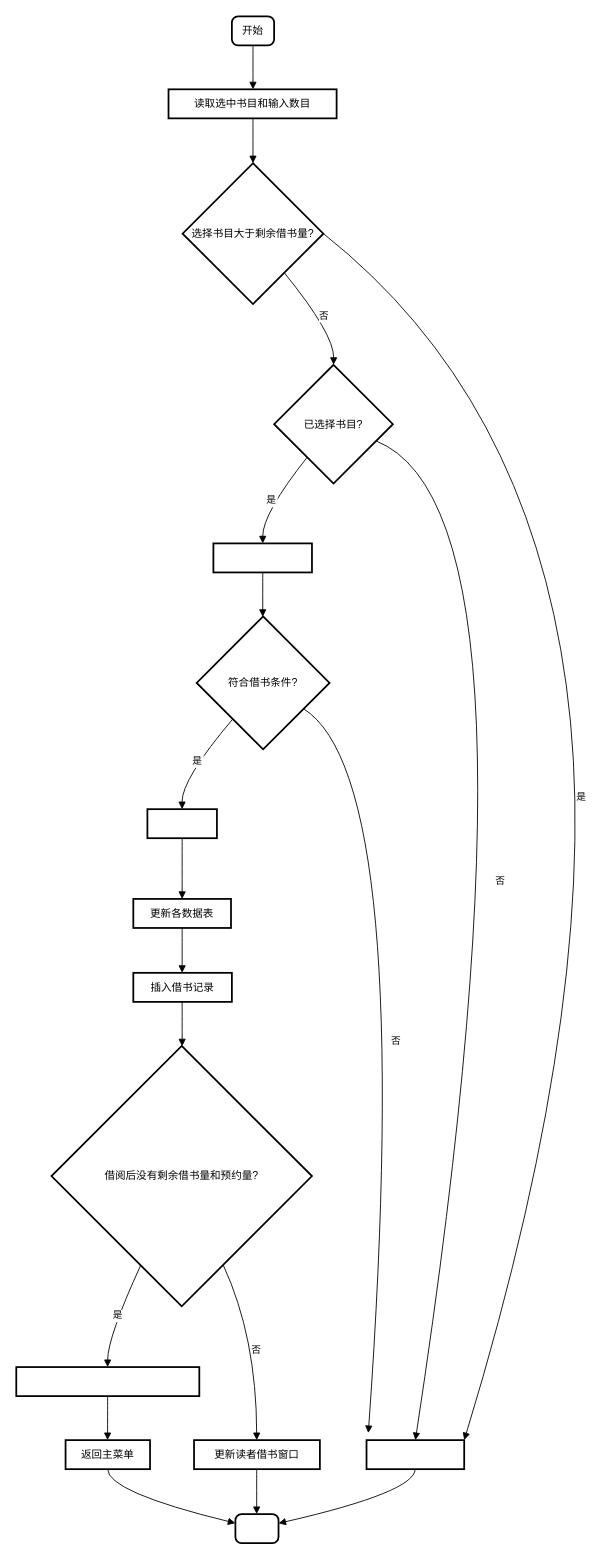
Image size: 601x1558. Some labels were removed from this diagram. Here are the shapes that lost their labels. From the top down, the centre of each, then its label:
point (262, 557): 查询书籍信息
point (181, 823): 借阅成功
point (107, 1381): 提示已达到借书和预约上限
point (415, 1454): 警告非法借阅
point (256, 1528): 结束
